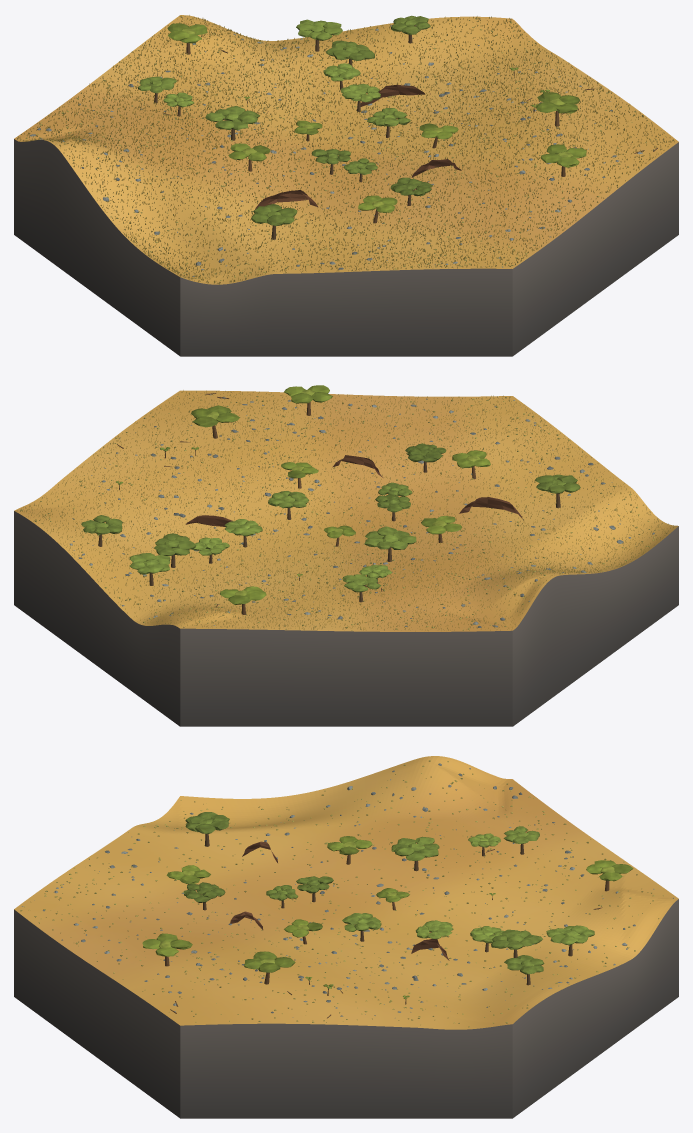
The picture shows the model from 3 angles, top to bottom: view 1: azimuth 30°, elevation 25°; view 2: azimuth 150°, elevation 25°; view 3: azimuth 270°, elevation 25°; orthographic projection.
Visible parts, largest first — view 1: terrain, hex_side_cut, wildflowers, broadleaf_canopy, shrubs, boulders, rock_escarpments, trunks; view 2: terrain, hex_side_cut, wildflowers, broadleaf_canopy, shrubs, boulders, rock_escarpments, trunks; view 3: terrain, hex_side_cut, broadleaf_canopy, shrubs, boulders, trunks, rock_escarpments.
Part boxes in pixels (left/top/right/bottom): terrain: left=14, top=15, right=678, bottom=284; hex_side_cut: left=14, top=139, right=678, bottom=356; wildflowers: left=17, top=15, right=674, bottom=284; broadleaf_canopy: left=138, top=15, right=586, bottom=226; shrubs: left=25, top=18, right=666, bottom=280; boulders: left=29, top=17, right=653, bottom=276; rock_escarpments: left=255, top=84, right=461, bottom=209; trunks: left=154, top=34, right=565, bottom=239; terrain: left=14, top=390, right=678, bottom=631; hex_side_cut: left=14, top=511, right=678, bottom=726; wildflowers: left=16, top=390, right=674, bottom=631; broadleaf_canopy: left=81, top=385, right=580, bottom=604; shrubs: left=20, top=392, right=673, bottom=630; boulders: left=69, top=394, right=654, bottom=627; rock_escarpments: left=185, top=455, right=523, bottom=538; trunks: left=98, top=402, right=560, bottom=614; terrain: left=14, top=756, right=678, bottom=1029; hex_side_cut: left=14, top=899, right=678, bottom=1118; broadleaf_canopy: left=142, top=812, right=633, bottom=998; shrubs: left=20, top=760, right=663, bottom=1027; boulders: left=22, top=763, right=673, bottom=1018; trunks: left=165, top=833, right=609, bottom=1004; rock_escarpments: left=230, top=841, right=449, bottom=960.
Bounding box in the file's own units: 4330 × 1004 × 5000.
